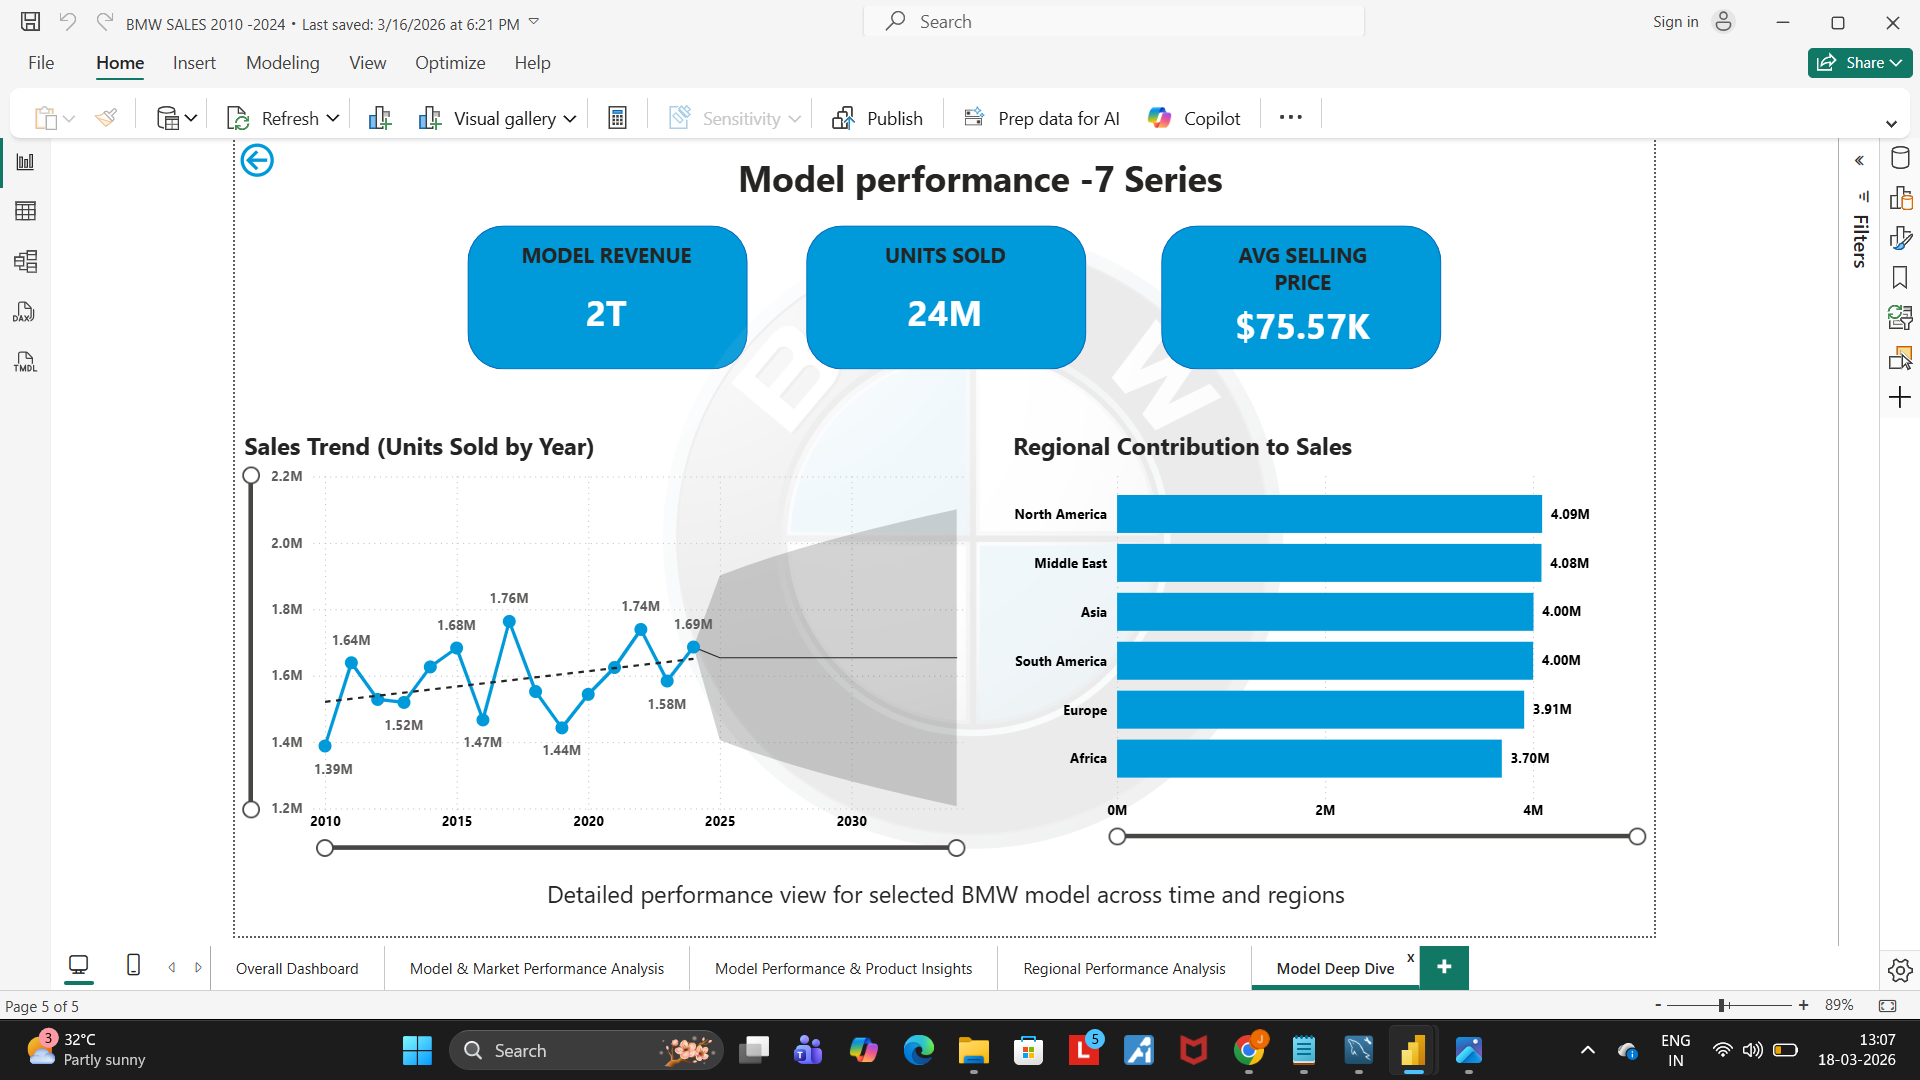

Layout of this report page (visuals, bound fields, positions):
{"tool":"powerbi","page":{"name":"Model Deep Dive","canvas":[1280,720],"ordinal":4},"visuals":[{"type":"actionButton","box":[0,0,100,40],"z":0},{"type":"shape","box":[209.2,79.4,252.5,129.8],"z":1},{"type":"image","box":[318.9,80.8,692.5,559.8],"z":2},{"type":"shape","box":[515.1,79.4,252.5,129.8],"z":4},{"type":"shape","box":[835.4,79.4,252.5,129.8],"z":5},{"type":"card","title":"MODEL REVENUE","fields":{"Values":["Measure.Total Revenue"]},"box":[249.6,92.3,171.7,105.3],"z":6},{"type":"card","title":"UNITS SOLD","fields":{"Values":["Measure.Total Sales Volume"]},"box":[554,92.3,171.7,105.3],"z":7},{"type":"card","title":"AVG SELLING PRICE","fields":{"Values":["Measure.Average Price"]},"box":[877.2,92.3,171.7,105.3],"z":8},{"type":"lineChart","title":"Sales Trend (Units Sold by Year)","fields":{"Category":["BMW_Data.Year"],"Y":["Measure.Total Sales Volume"]},"box":[2.9,262.6,666.6,388.1],"z":9},{"type":"barChart","title":"Regional Contribution to Sales","fields":{"Category":["BMW_Data.Region"],"Y":["Measure.Total Sales Volume"]},"box":[696.9,262.6,582.9,378],"z":10},{"type":"textbox","box":[448.7,14.4,479,51.9],"z":11},{"type":"textbox","box":[2.5,661.8,1277.5,41.1],"z":12}]}

Visuals, with their boxes on the page's 1280x720 design canvas (x1, y1, x2, y2). These are canvas units, not pixel positions in the 1920x1080 screenshot, which may show the page scaled, cropped or inside an application window:
actionButton: x1=0 y1=0 x2=100 y2=40
shape: x1=209 y1=79 x2=462 y2=209
image: x1=319 y1=81 x2=1011 y2=641
shape: x1=515 y1=79 x2=768 y2=209
shape: x1=835 y1=79 x2=1088 y2=209
"MODEL REVENUE" card: x1=250 y1=92 x2=421 y2=198
"UNITS SOLD" card: x1=554 y1=92 x2=726 y2=198
"AVG SELLING PRICE" card: x1=877 y1=92 x2=1049 y2=198
"Sales Trend (Units Sold by Year)" lineChart: x1=3 y1=263 x2=670 y2=651
"Regional Contribution to Sales" barChart: x1=697 y1=263 x2=1280 y2=641
textbox: x1=449 y1=14 x2=928 y2=66
textbox: x1=2 y1=662 x2=1280 y2=703
